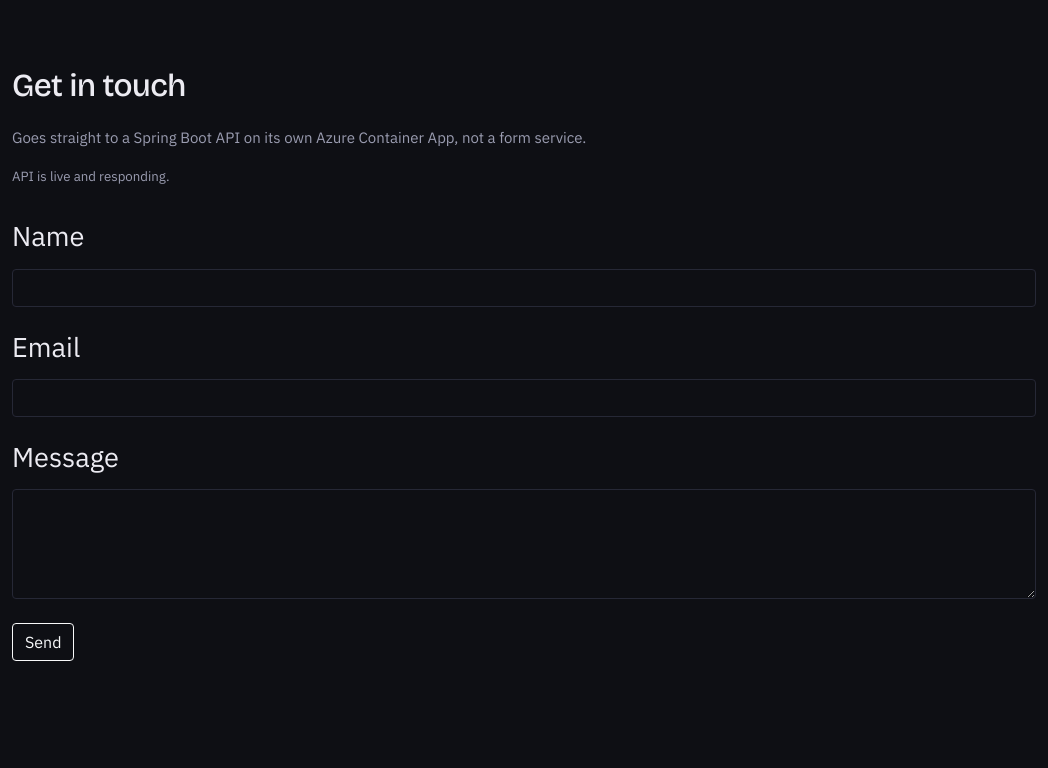
Contact › shows a sending state and success message on a good response
In the field labelled "Name": (524, 288) [12, 269, 1036, 307], type "Ada"
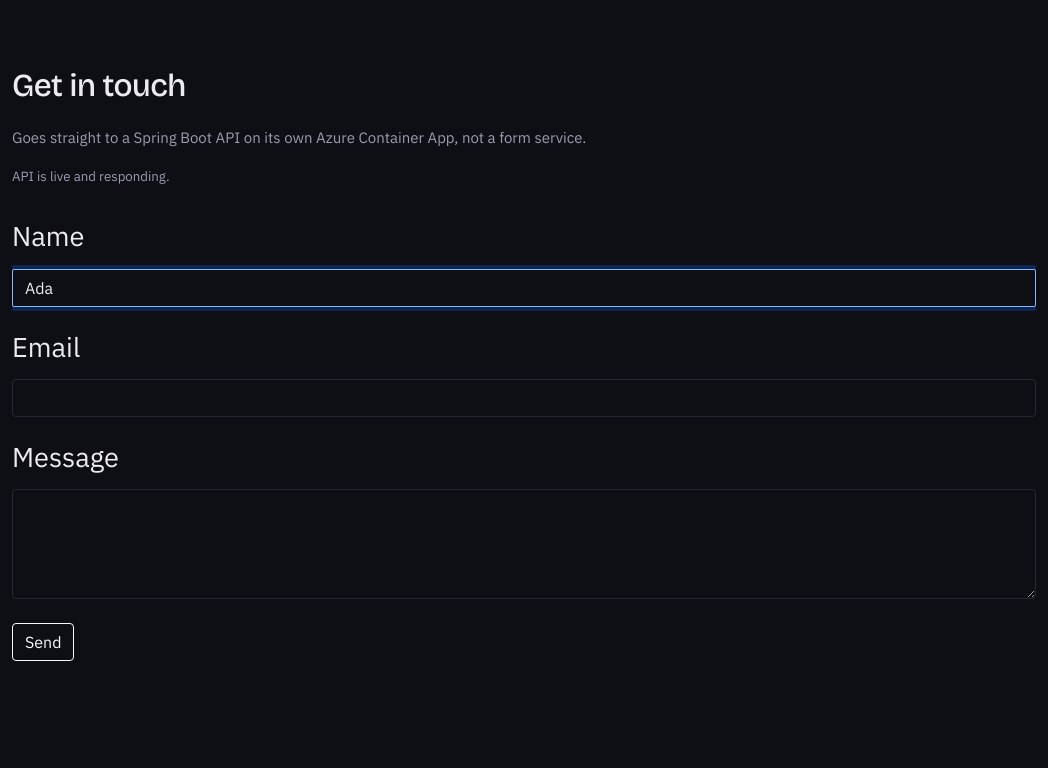
In the field labelled "Email": (524, 398) [12, 379, 1036, 417], type "ada@example.com"
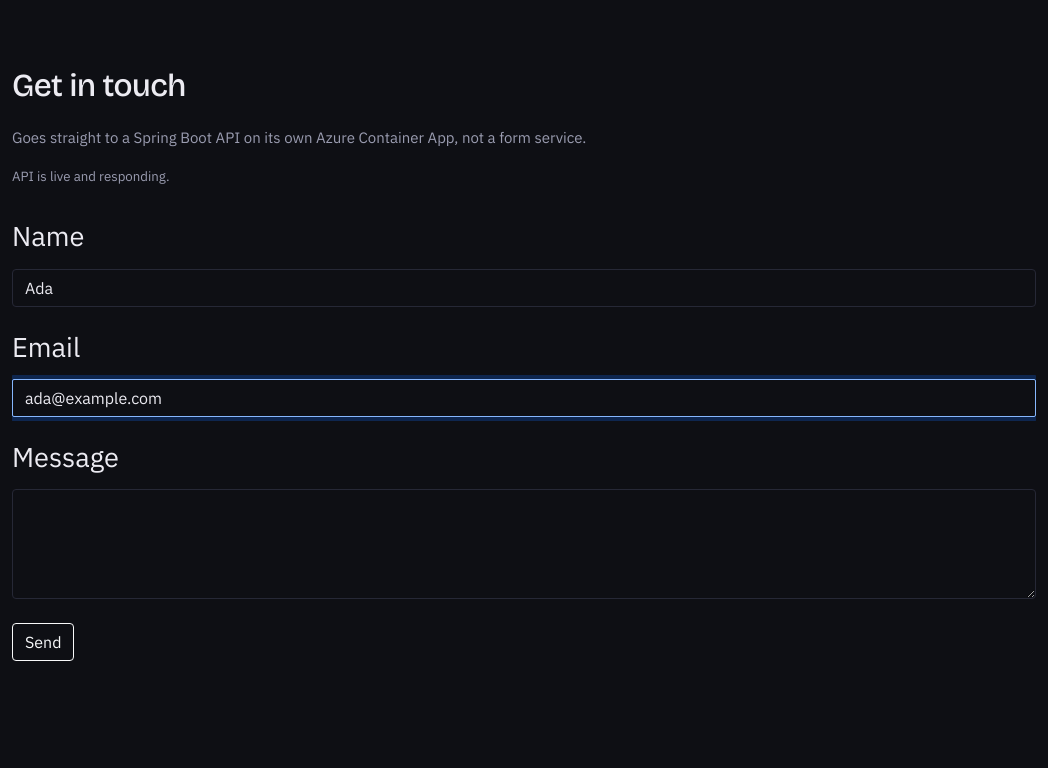
In the text box labelled "Message": (524, 544) [12, 489, 1036, 599], type "Hello there"
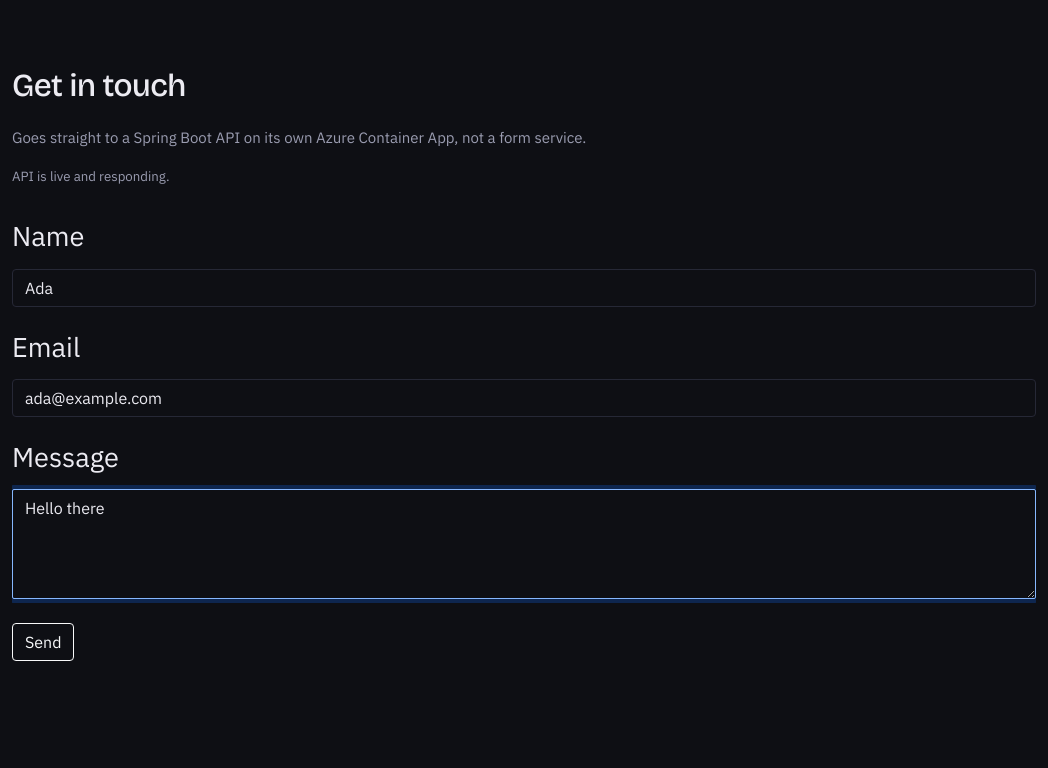
Click the button "Send": (43, 642) [12, 623, 74, 661]
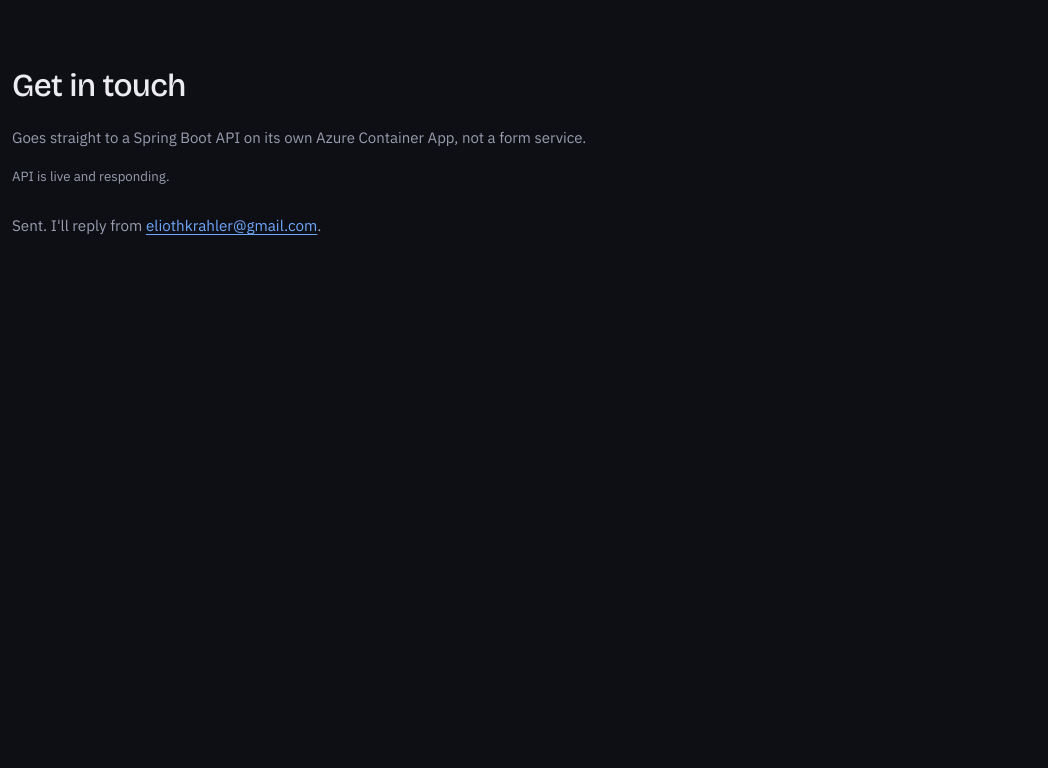
Check: the text "Sent. I'll reply from eliothkrahler@gmail.com ." is shown, box [12, 215, 321, 235]
